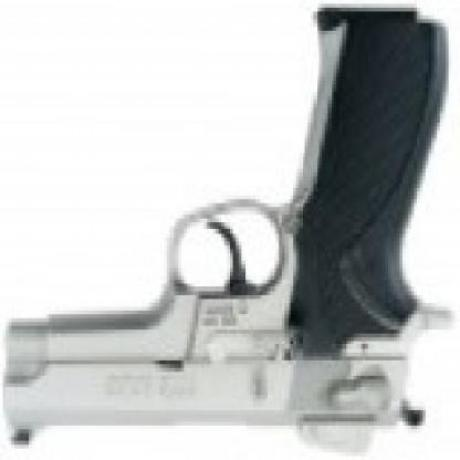weapon: (7, 17, 451, 449)
